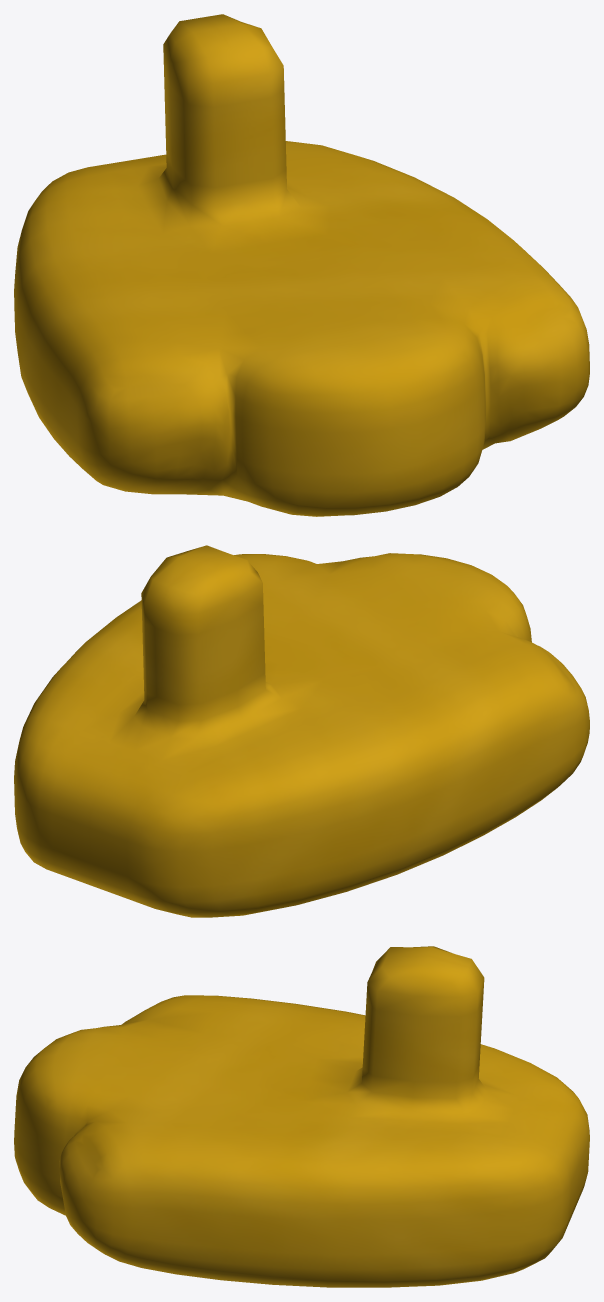
The model's file is rfoot.obj.
3 renders of one model, top to bottom at view 1: azimuth 30°, elevation 25°; view 2: azimuth 150°, elevation 25°; view 3: azimuth 270°, elevation 25°, orthographic. The views are drawn at different scales.
Parts seen in each view (by area): view 1: Linux_Penguin__Right_Leg_; view 2: Linux_Penguin__Right_Leg_; view 3: Linux_Penguin__Right_Leg_.
Part boxes in pixels (x1,y1,x2,y2): Linux_Penguin__Right_Leg_: (14,14,589,516); Linux_Penguin__Right_Leg_: (14,545,589,917); Linux_Penguin__Right_Leg_: (14,946,589,1287).
Size of the model in its own units: 4.61 by 3.05 by 5.8.
